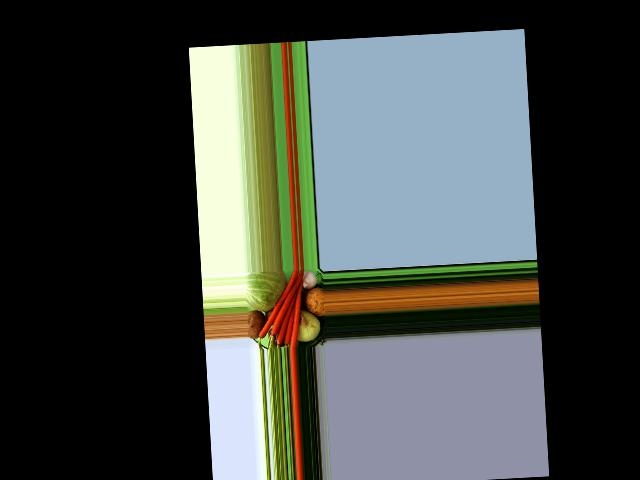carrot: (285, 272, 308, 347)
